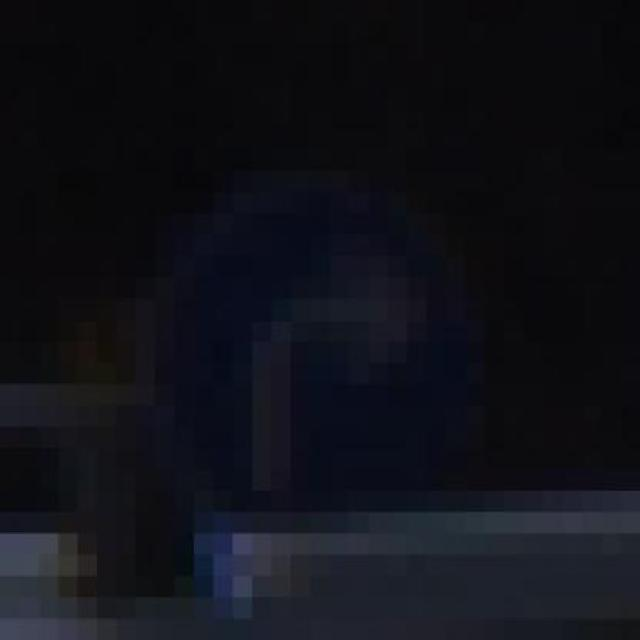Turn right ahead: (106, 126, 514, 574)
